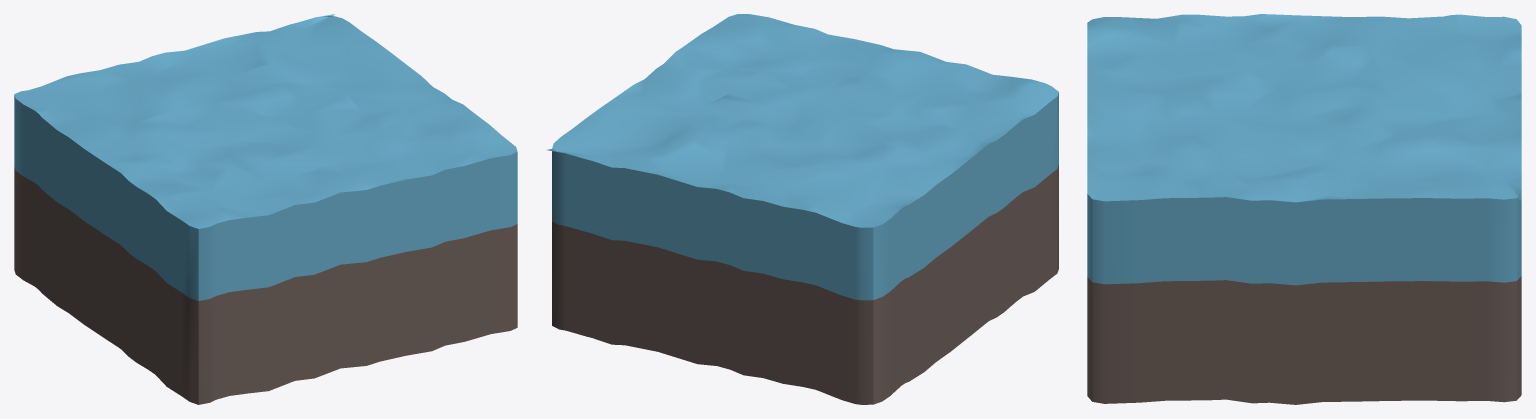
Rendered from water.fbx.
3 views of the same model, side by side, from view 1: azimuth 30°, elevation 25°; view 2: azimuth 150°, elevation 25°; view 3: azimuth 270°, elevation 25° (orthographic). The views are drawn at different scales.
Parts seen in each view (by area): view 1: island:water; view 2: island:water; view 3: island:water.
Part boxes in pixels (x1=…): island:water: x1=14, y1=14, x2=517, y2=404; island:water: x1=547, y1=14, x2=1058, y2=404; island:water: x1=1087, y1=14, x2=1521, y2=404.
Bounding box in the file's own units: 19.76 × 10.6 × 19.76.
